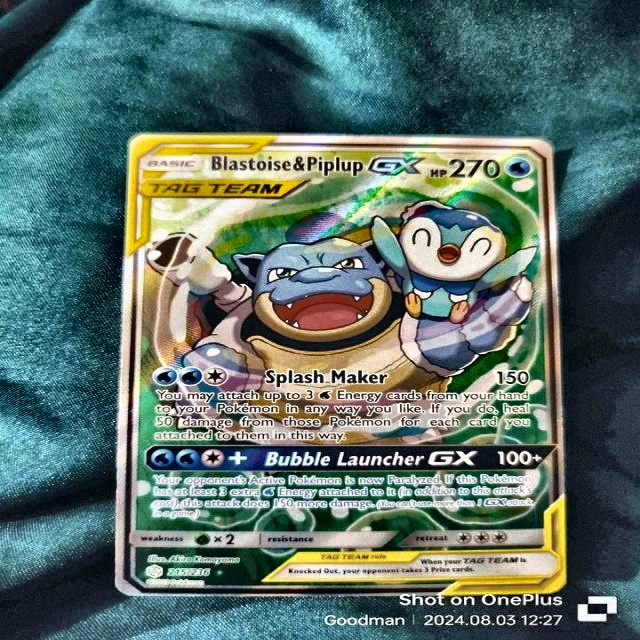card: (115, 134, 568, 595)
